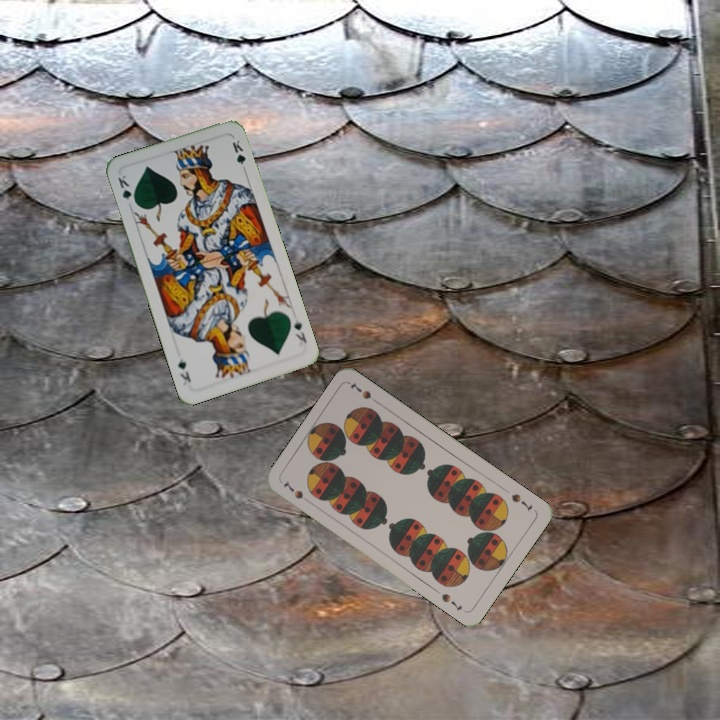GK: (113, 171, 139, 208), (290, 315, 309, 348)
S7: (279, 476, 314, 506), (507, 490, 535, 514)
